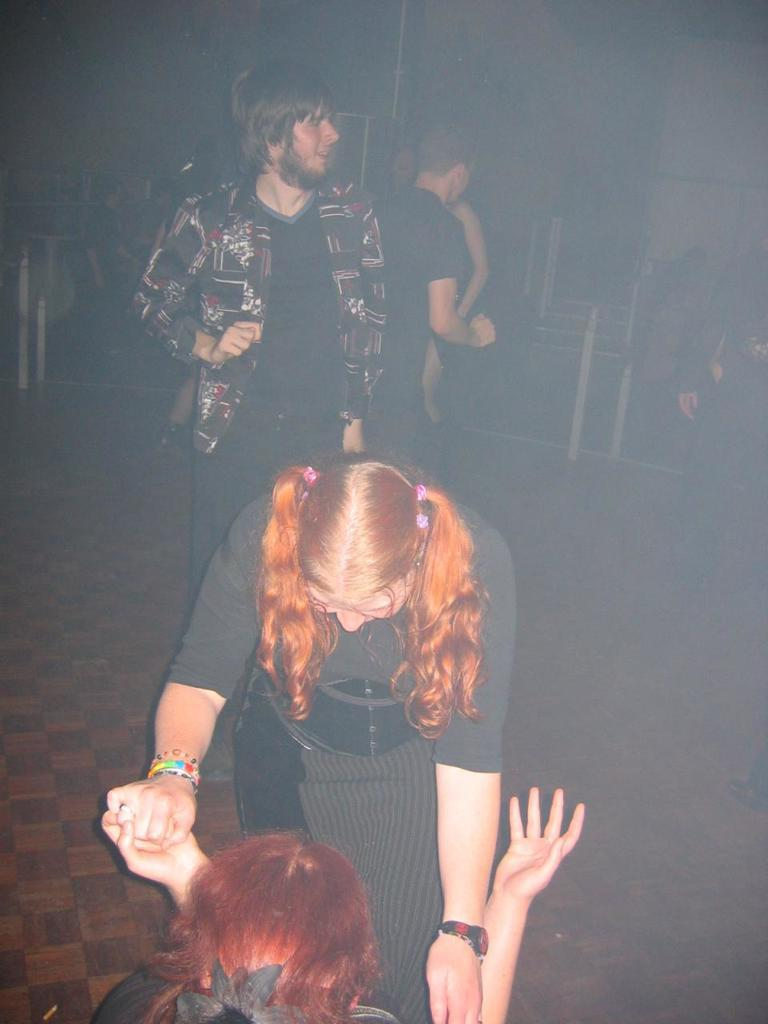Sem Máscara: (266, 110, 340, 181)
